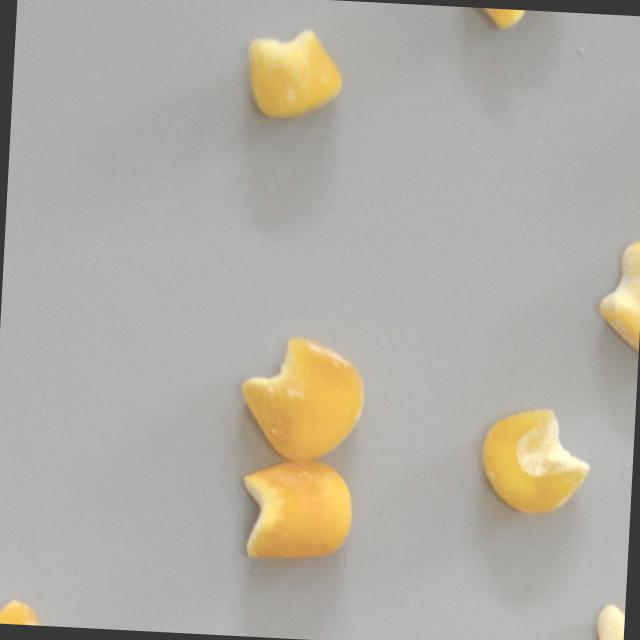no_canjicado: (479, 405, 593, 518), (237, 460, 355, 564), (242, 25, 345, 124), (544, 602, 625, 640)
pelicula: (236, 333, 367, 466), (596, 241, 640, 364), (461, 7, 568, 33), (0, 599, 59, 627)
